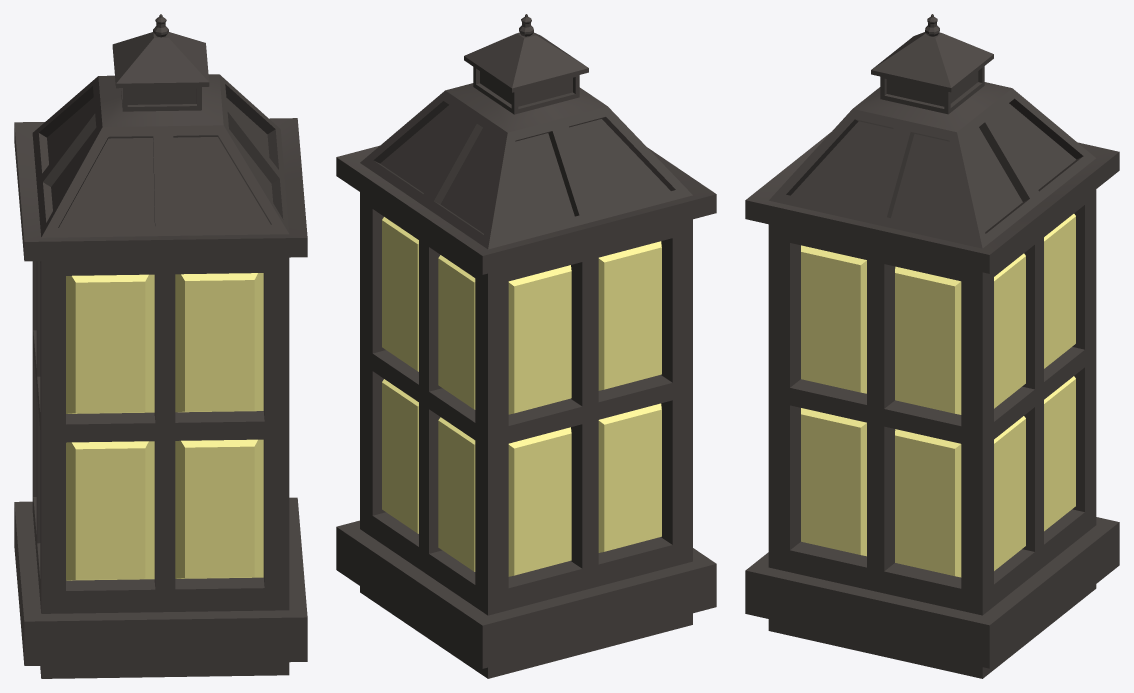
File: lantern.fbx
The picture shows the model from 3 angles, left to right: view 1: azimuth 30°, elevation 25°; view 2: azimuth 150°, elevation 25°; view 3: azimuth 270°, elevation 25°; orthographic projection. The views are drawn at different scales.
Parts seen in each view (by area): view 1: Lantern; view 2: Lantern; view 3: Lantern.
Part boxes in pixels (x1,y1,x2,y2): Lantern: (14, 14, 307, 678); Lantern: (336, 14, 716, 678); Lantern: (745, 14, 1119, 678).
Size of the model in its own units: 1.61 by 2.82 by 1.61.
